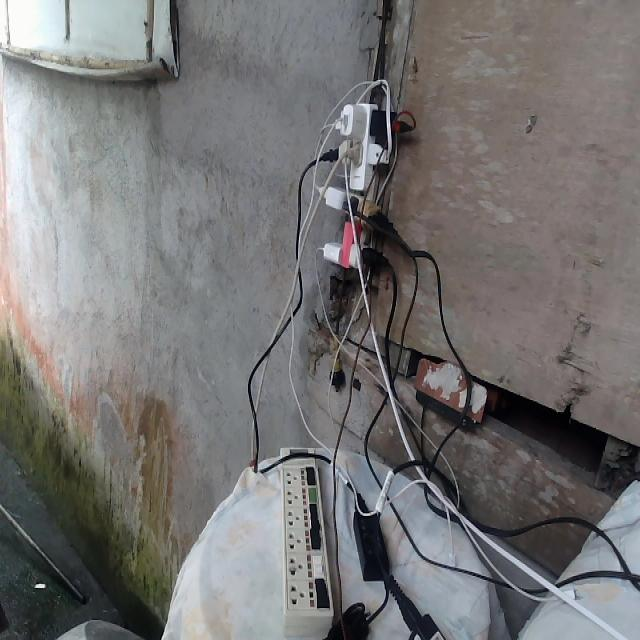-: (319, 100, 395, 272)
